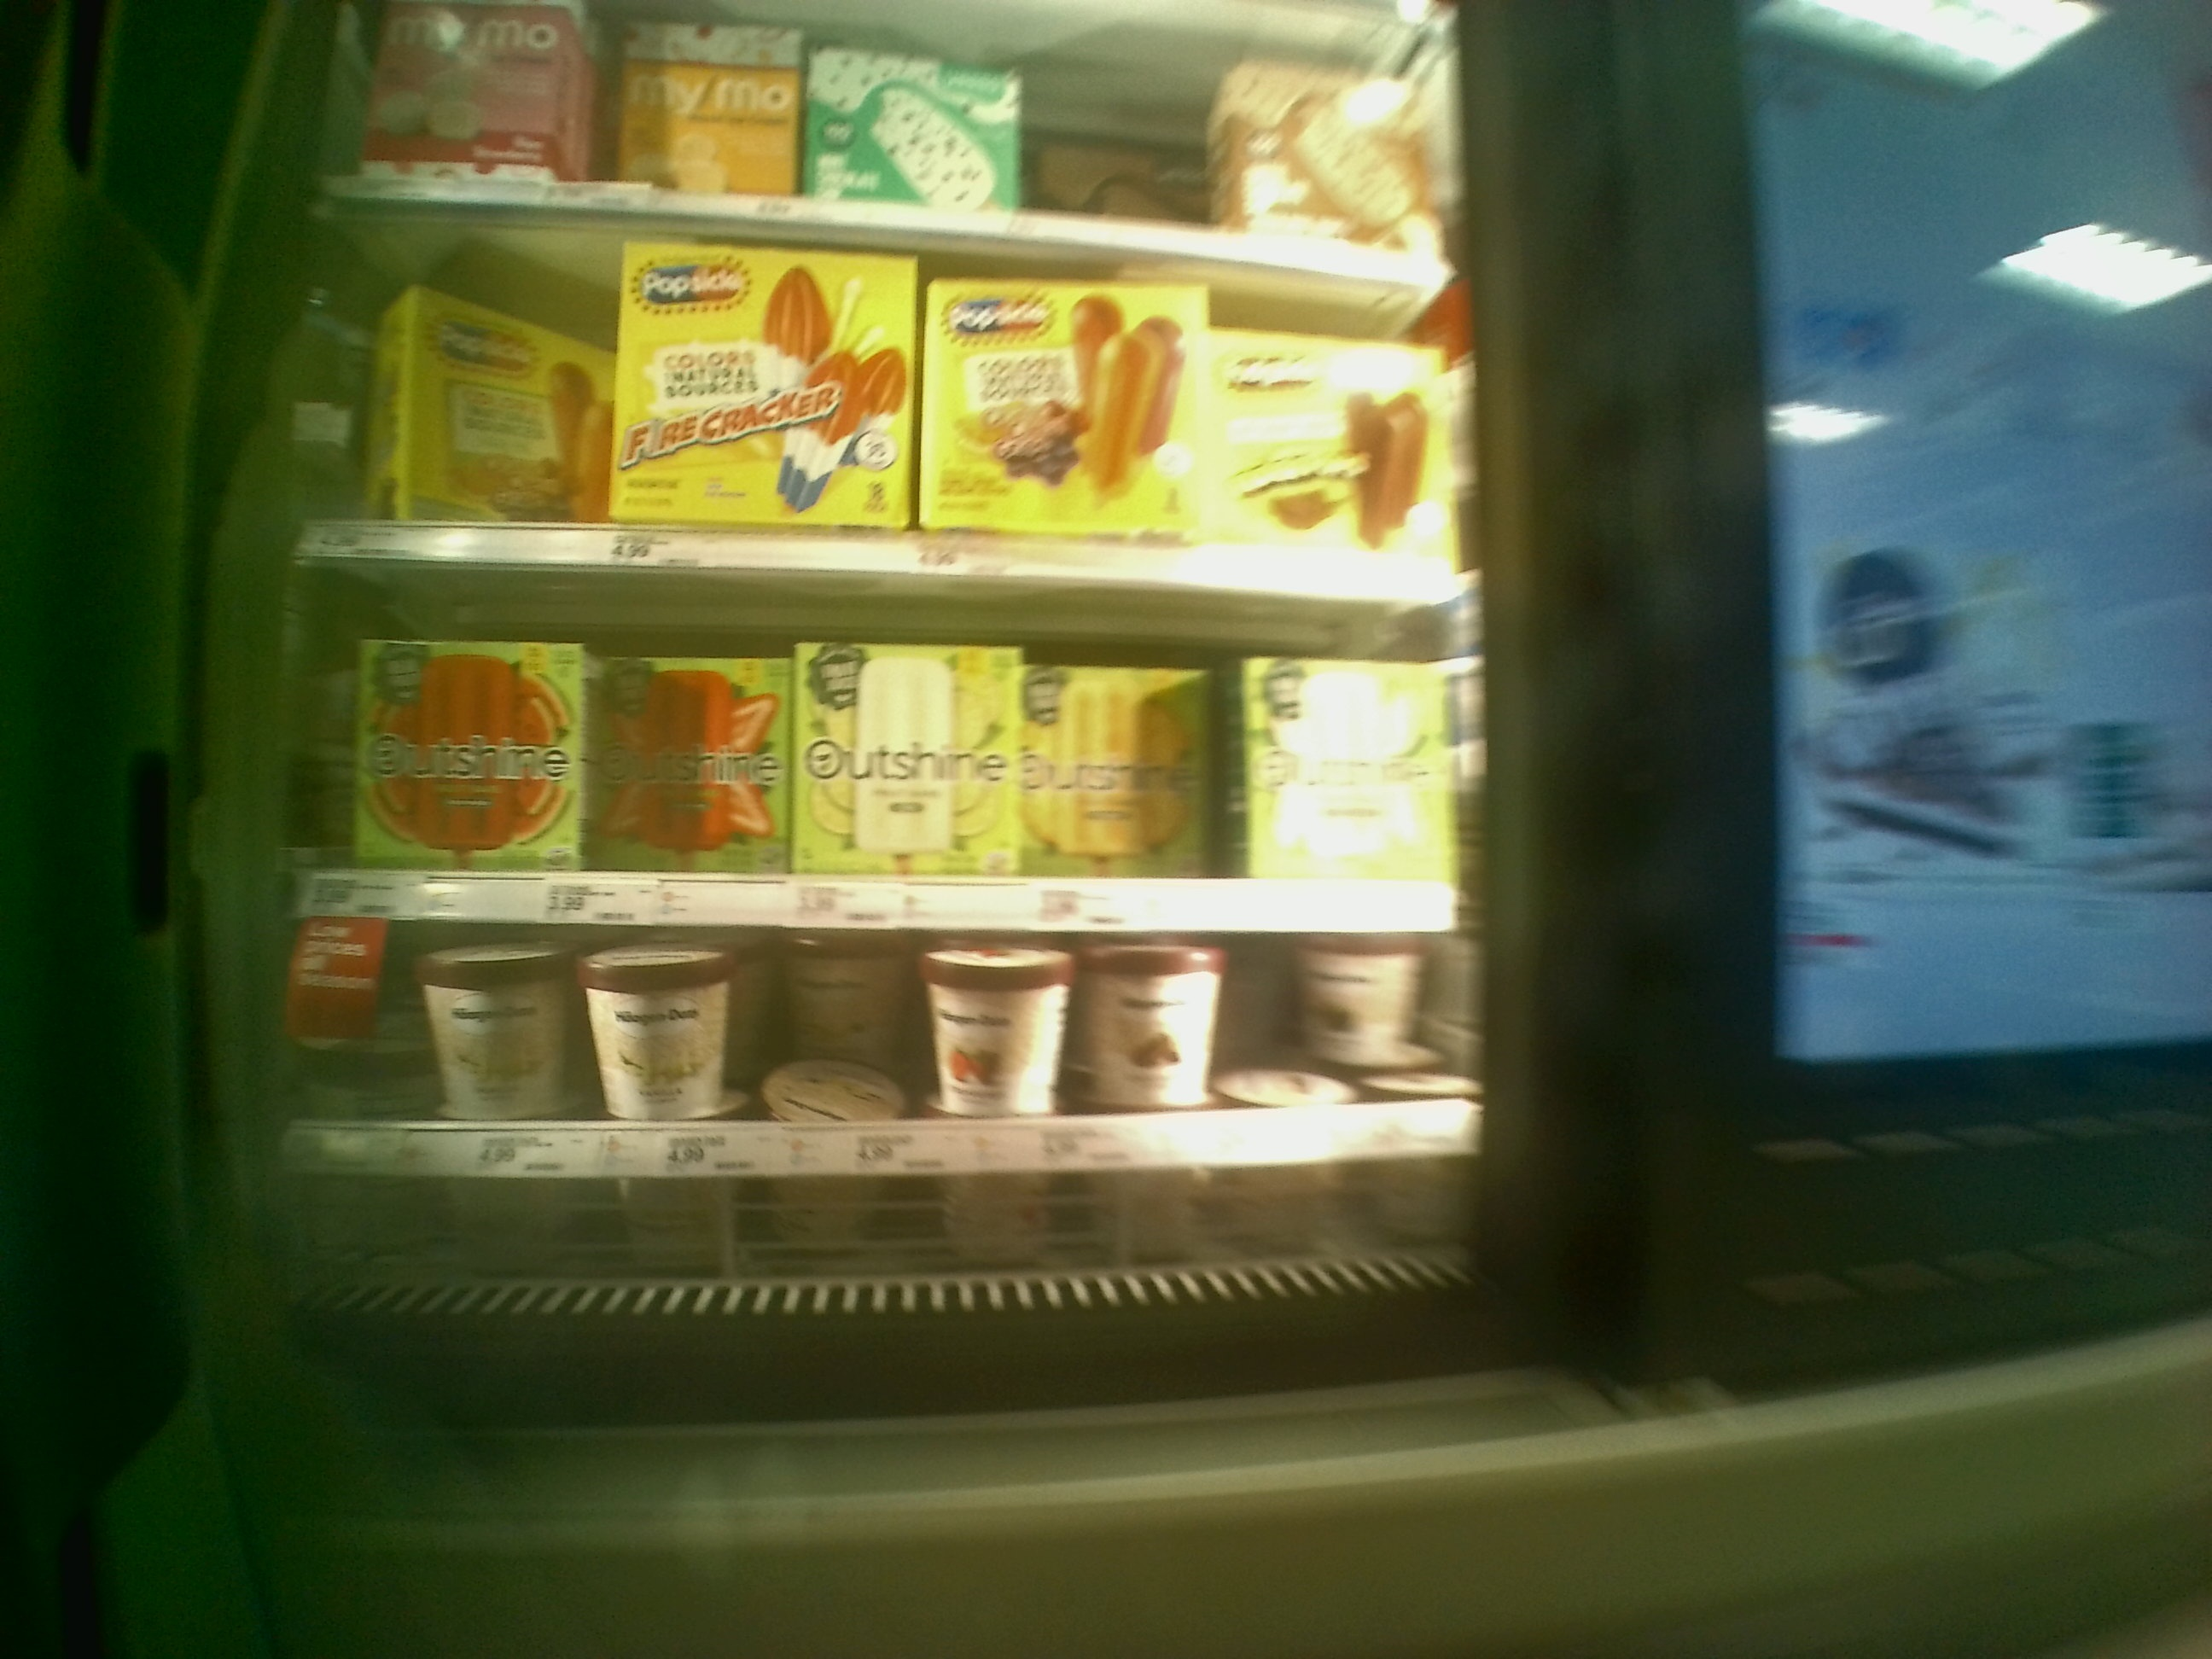ice-cream-shelf: (291, 558, 1468, 918), (289, 924, 1484, 1171)
